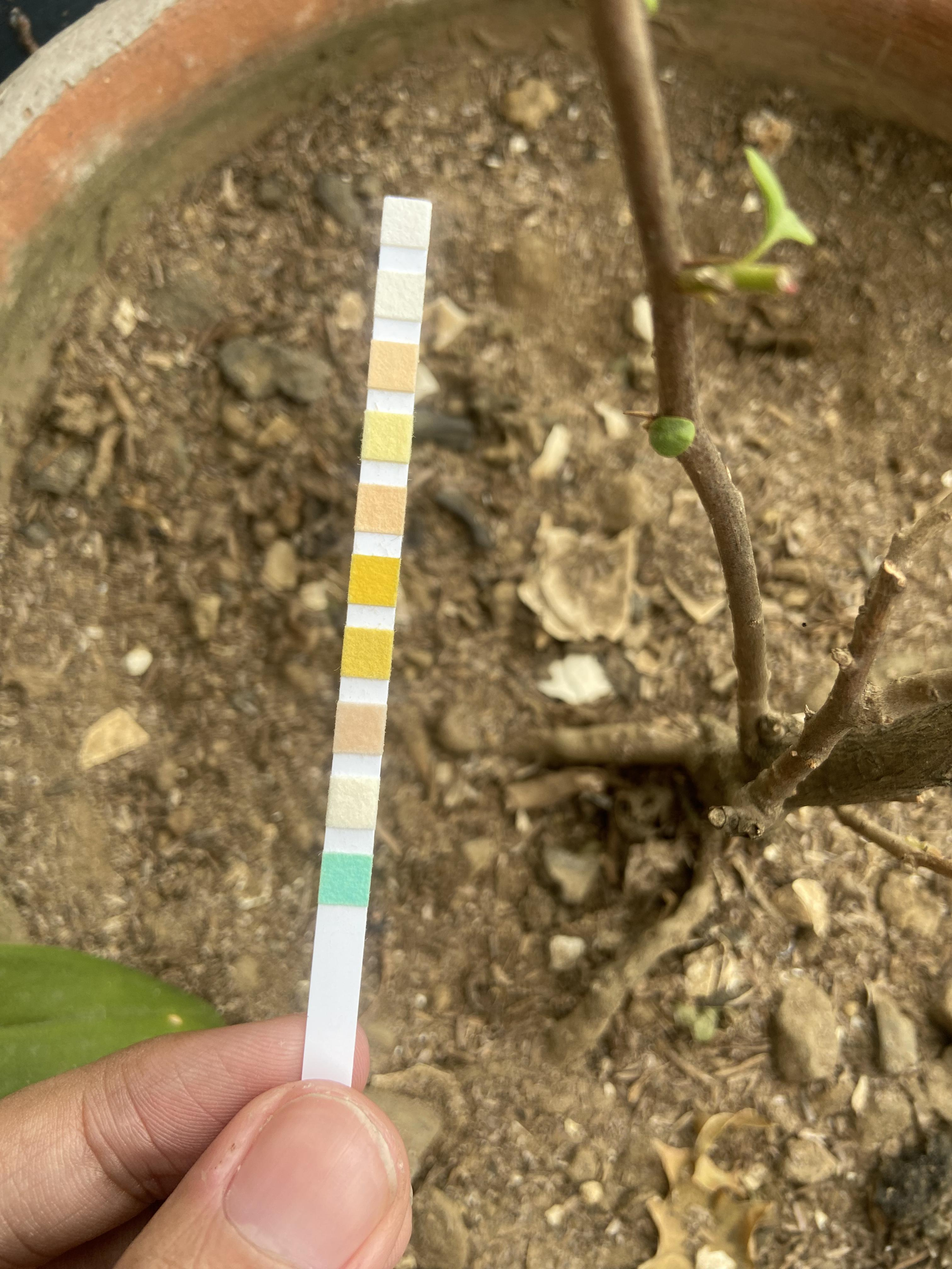Bilirubin: (332, 777, 372, 826)
Blood: (352, 560, 395, 603)
Glucose: (322, 857, 367, 904)
Ketone: (340, 706, 383, 752)
Leukocytes: (385, 203, 429, 242)
Nitrite: (379, 274, 422, 316)
Protein: (367, 416, 410, 459)
SpGravity: (346, 629, 390, 678)
Urobilinogen: (372, 345, 414, 386)
pH: (359, 489, 403, 530)
strip: (304, 197, 431, 1075)
